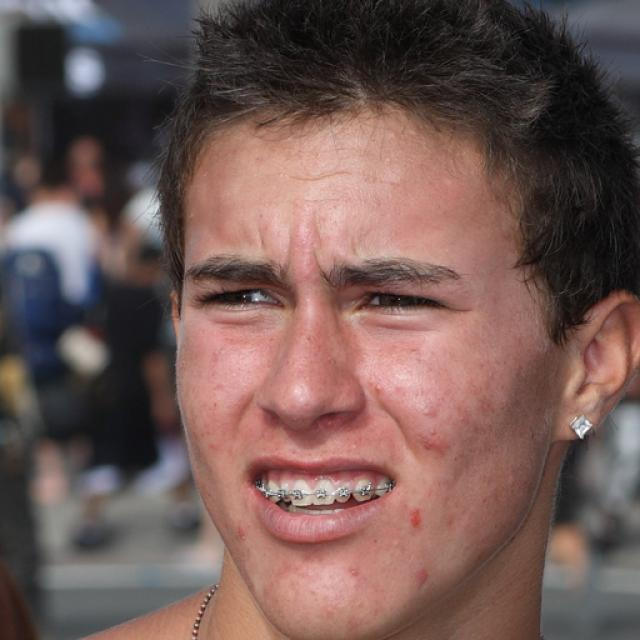Acne: (413, 419, 450, 455), (403, 506, 432, 533), (371, 377, 392, 402)
